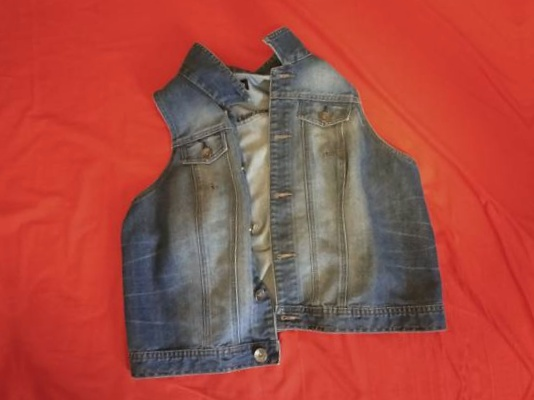Blazer: (71, 0, 465, 387)
